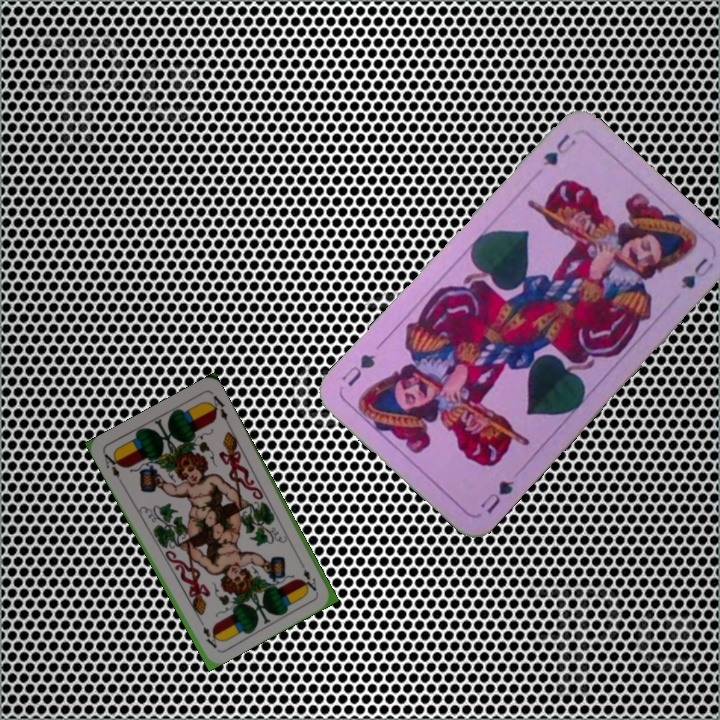EA: (100, 449, 125, 486), (295, 557, 319, 594)
GU: (476, 475, 517, 517), (539, 130, 579, 169)
